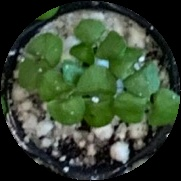Basil: (36, 67, 87, 124), (19, 32, 63, 91), (113, 46, 160, 99), (114, 85, 181, 121), (83, 64, 114, 127), (75, 19, 125, 56), (59, 39, 92, 90)
